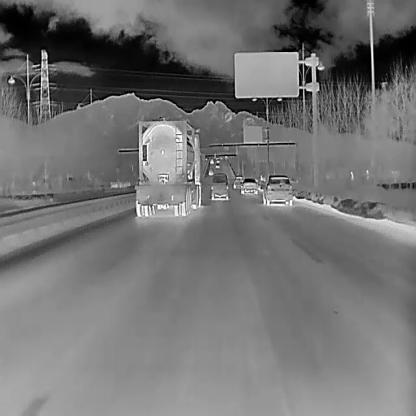car: (262, 174, 292, 205), (210, 172, 228, 200), (240, 177, 258, 194), (232, 174, 243, 188), (208, 168, 214, 175), (209, 158, 213, 164), (214, 158, 220, 162), (215, 162, 219, 167)
truck: (134, 119, 202, 216)
